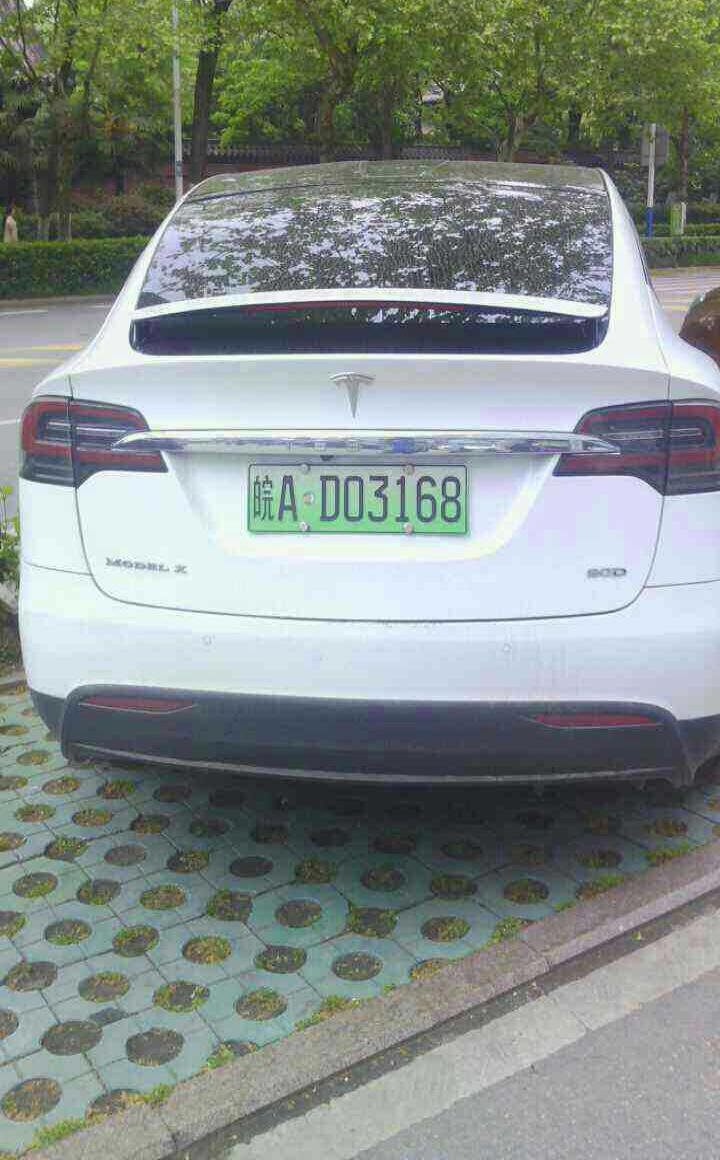car_id: (245, 462, 467, 535)
